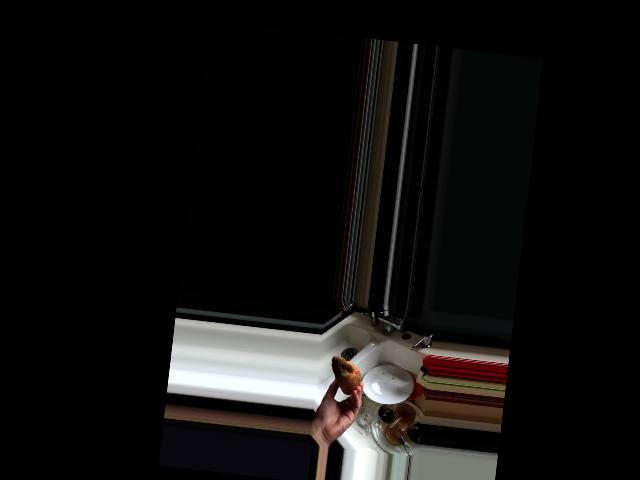sweet_potato: (325, 354, 364, 395)
